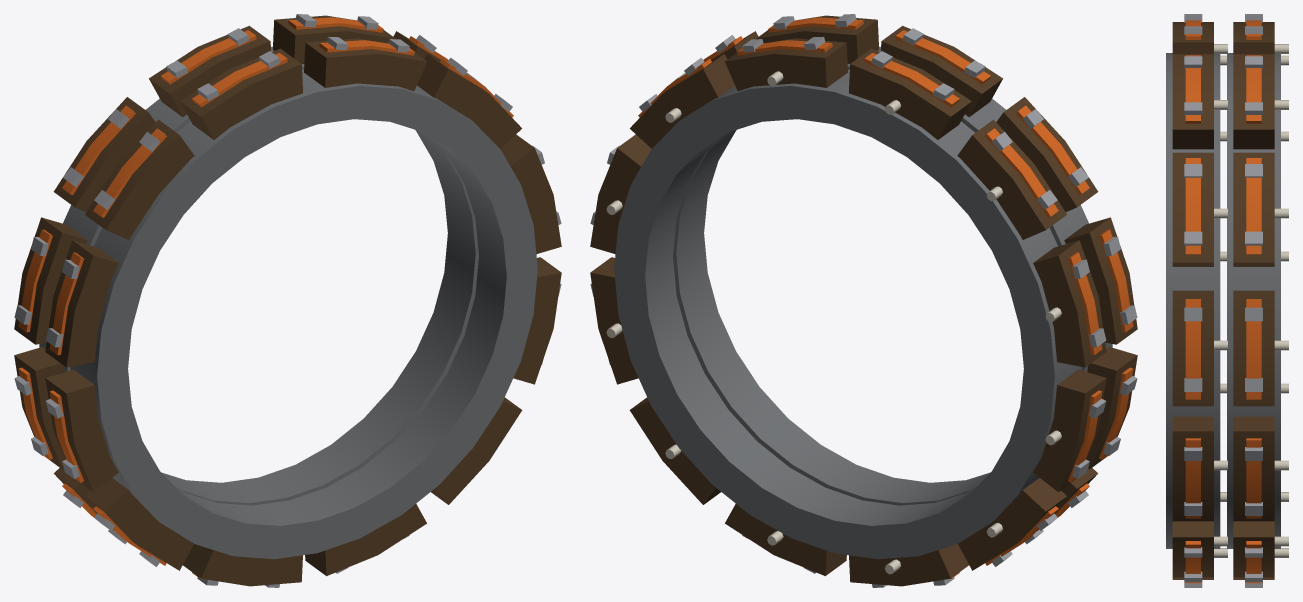
File: u70_coil_ring.obj
The picture shows the model from 3 angles, left to right: view 1: azimuth 30°, elevation 25°; view 2: azimuth 150°, elevation 25°; view 3: azimuth 270°, elevation 25°; orthographic projection. The views are drawn at different scales.
Parts seen in each view (by area): view 1: u70_coil_ring; view 2: u70_coil_ring; view 3: u70_coil_ring.
Part boxes in pixels (x1=…): u70_coil_ring: x1=14, y1=14, x2=561, y2=587; u70_coil_ring: x1=590, y1=14, x2=1137, y2=587; u70_coil_ring: x1=1166, y1=14, x2=1288, y2=587.
Size of the model in its own units: 4.41 by 4.41 by 0.95.
